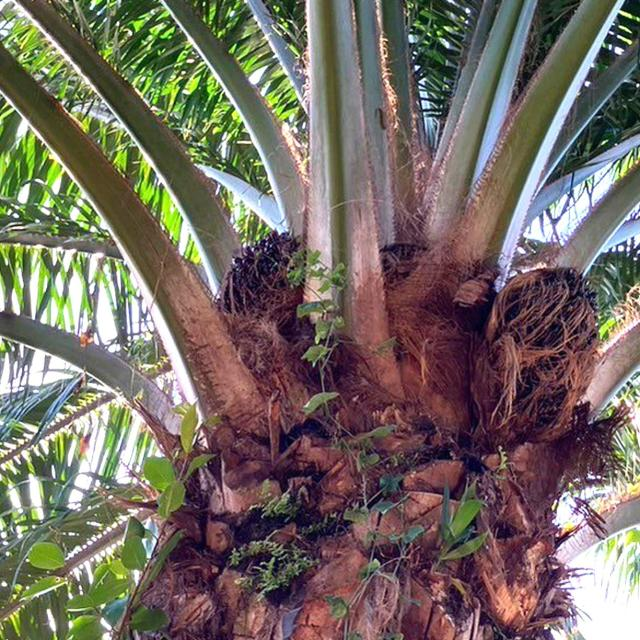almost: (204, 222, 322, 358)
